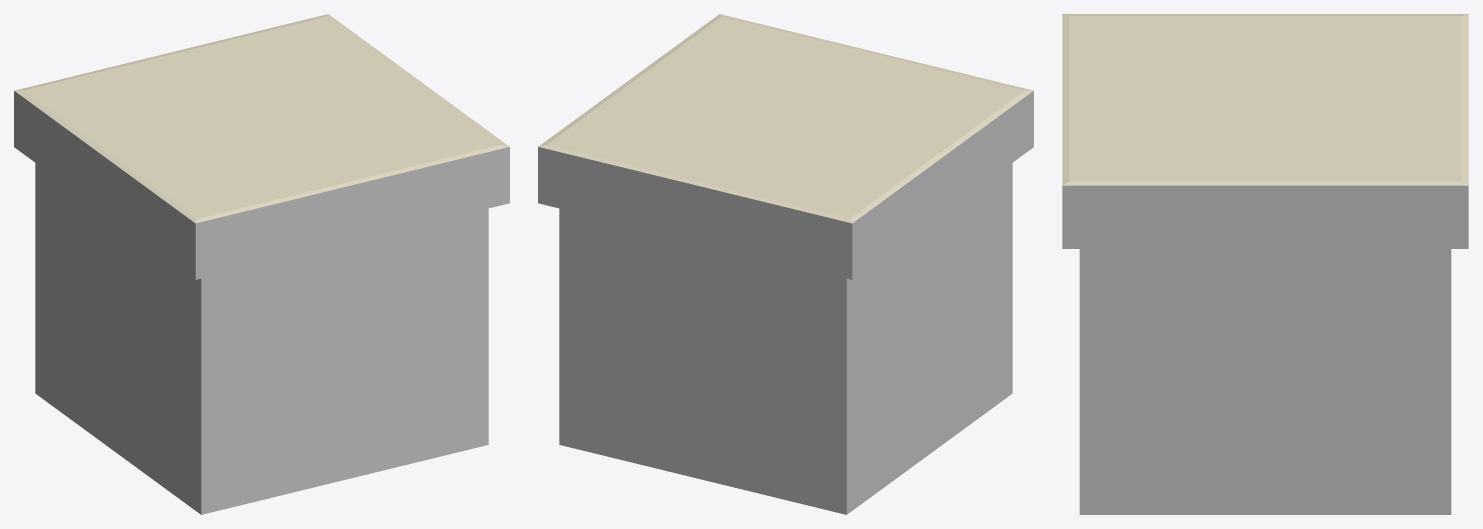
File: tile.fbx
3 views of the same model, side by side, from view 1: azimuth 30°, elevation 25°; view 2: azimuth 150°, elevation 25°; view 3: azimuth 270°, elevation 25° (orthographic). The views are drawn at different scales.
Visible parts, largest first — view 1: tile; view 2: tile; view 3: tile.
Part boxes in pixels (x1,y1,x2,y2): tile: [14, 14, 509, 514]; tile: [538, 14, 1033, 514]; tile: [1062, 14, 1468, 514].
Bounding box in the file's own units: 200 × 183 × 200.
